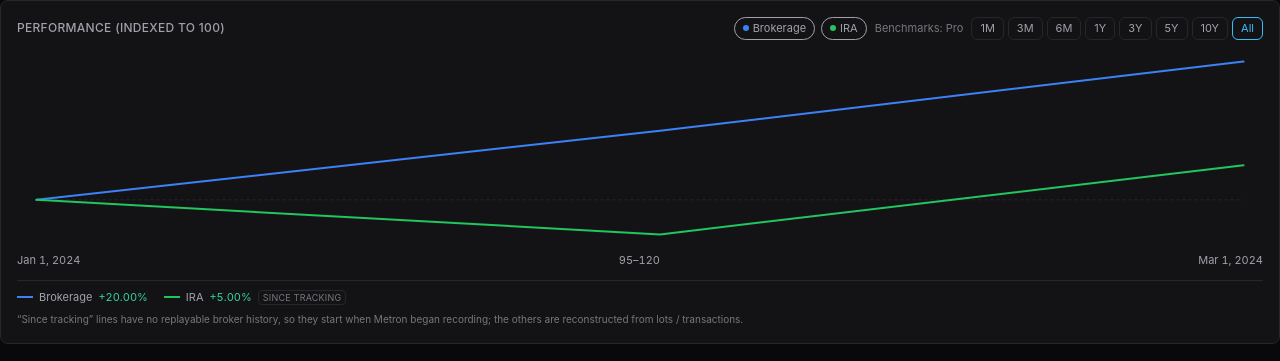
Test: HoldingsPerfChart › shows the 'all hidden' message when every line is toggled off
What coordinates should you click on to do the following:
click the button "Brokerage"
I would click on:
 (774, 28)
Its box is [734,17,815,40].
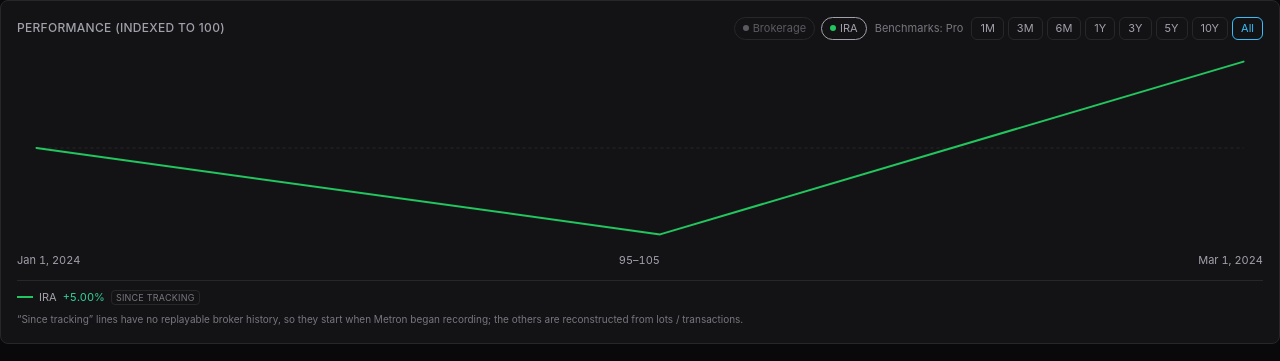
What coordinates should you click on to do the following:
click the button "IRA"
I would click on:
 (844, 28)
Its box is [821,17,867,40].
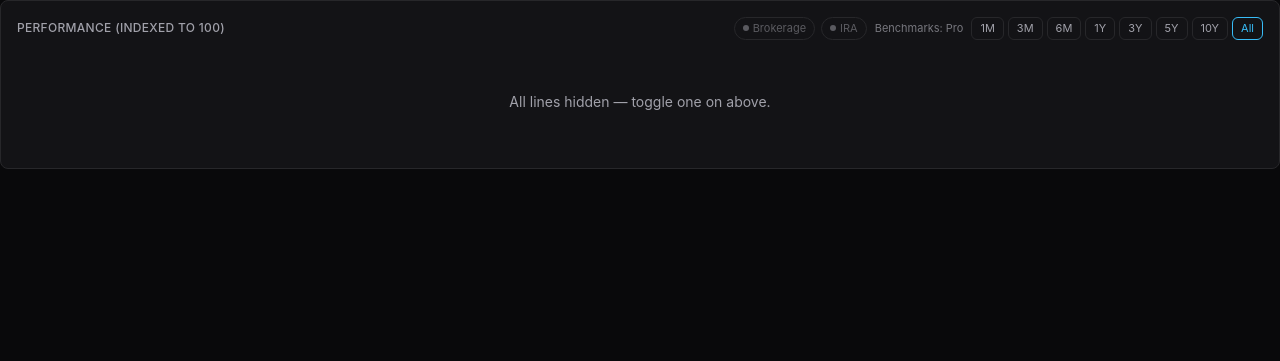
expect the text "All lines hidden — toggle one on above." is shown: met, box [509,92,771,110]
